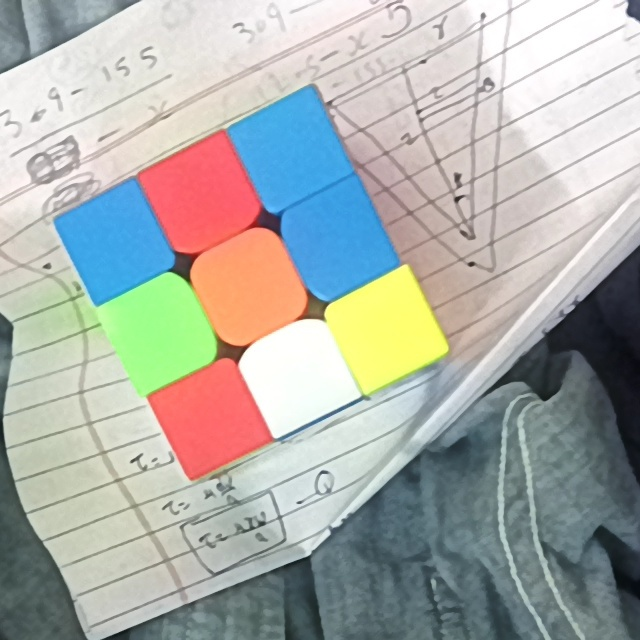tile: (208, 251, 286, 322), (301, 206, 373, 277), (121, 298, 194, 368), (164, 163, 240, 230), (257, 114, 326, 186), (262, 340, 329, 413), (82, 208, 151, 277), (174, 383, 242, 451), (353, 295, 416, 365)
